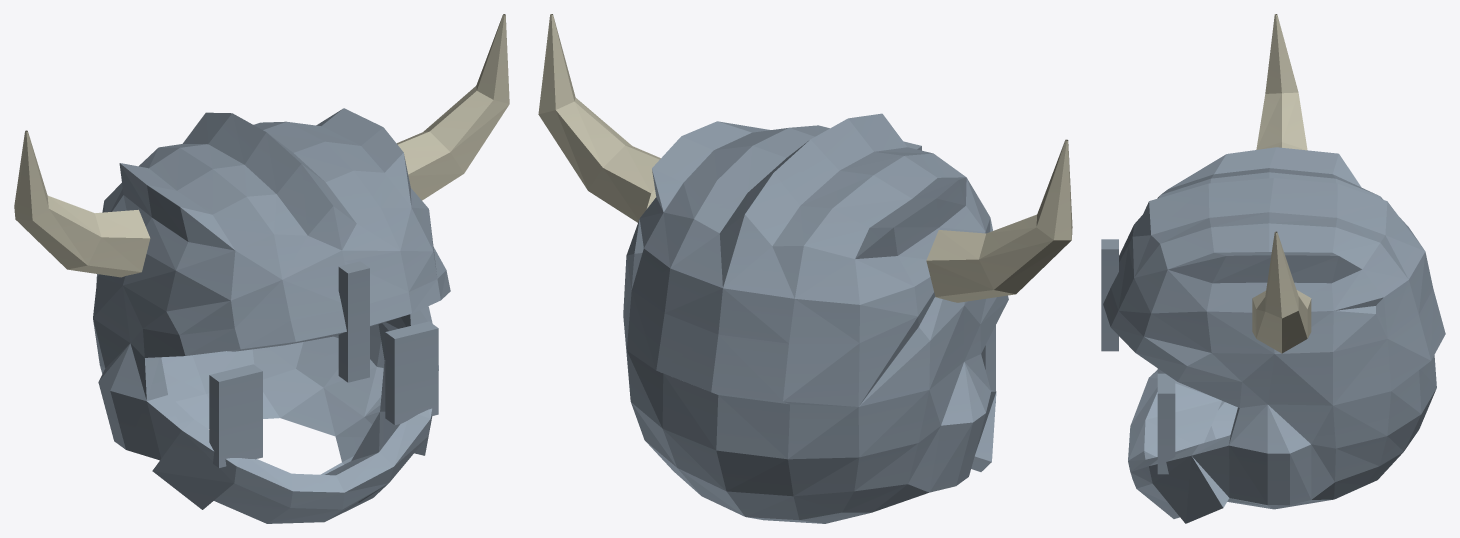
Rendered from enano_casco_2.glb.
3 views of the same model, side by side, from view 1: azimuth 30°, elevation 25°; view 2: azimuth 150°, elevation 25°; view 3: azimuth 270°, elevation 25° (orthographic). The views are drawn at different scales.
Parts seen in each view (by area): view 1: enano_casco_2; view 2: enano_casco_2; view 3: enano_casco_2.
Boxes of the visible parts, x1=… form: enano_casco_2: x1=14, y1=14, x2=509, y2=523; enano_casco_2: x1=538, y1=14, x2=1072, y2=523; enano_casco_2: x1=1101, y1=14, x2=1445, y2=523.
Size of the model in its own units: 1.8 by 1.41 by 1.16.
Materials: 1 (1 with a texture image).
